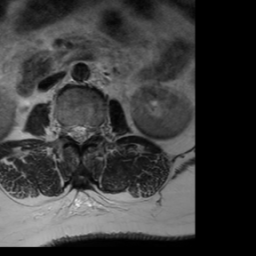CCS_normal: (76, 116, 84, 151)
LFS_normal: (92, 117, 100, 144)
LLS_normal: (84, 117, 92, 145)
RFS_normal: (60, 116, 68, 143)
RLS_normal: (68, 117, 76, 146)
